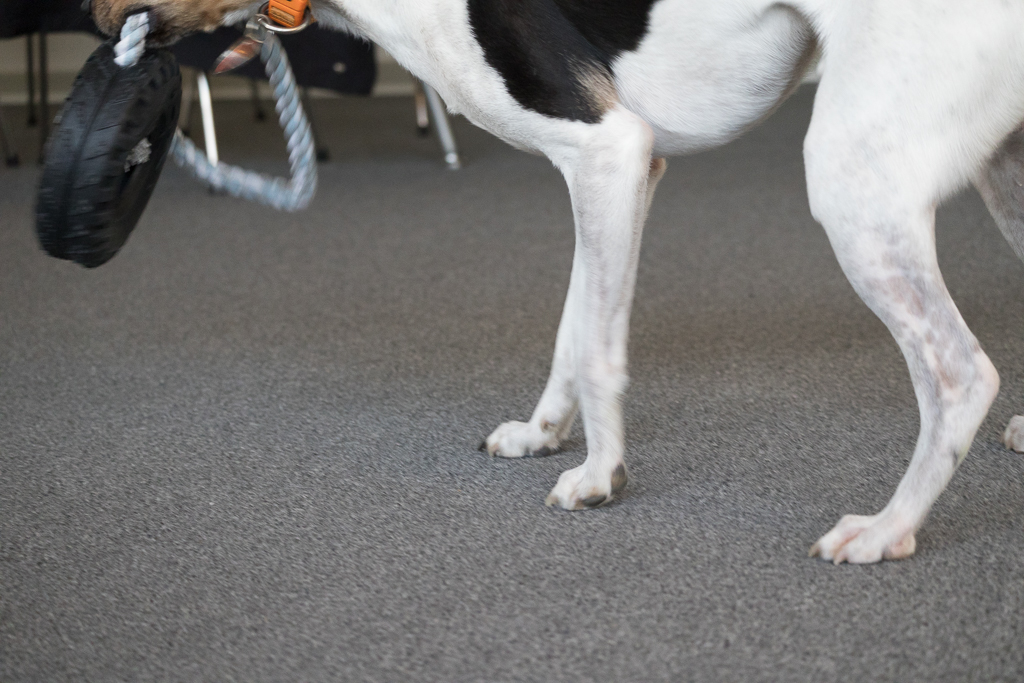Dog: (68, 0, 1024, 578)
